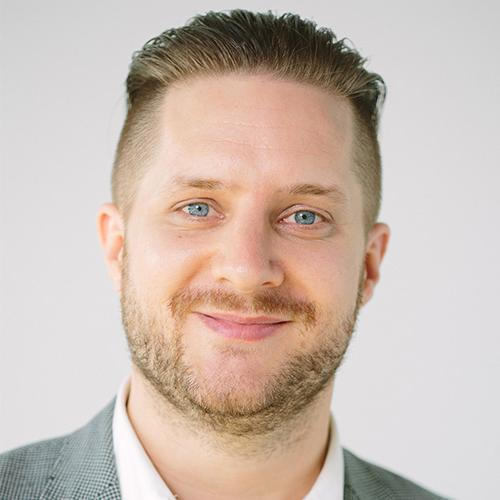Sober: (142, 102, 358, 383)
